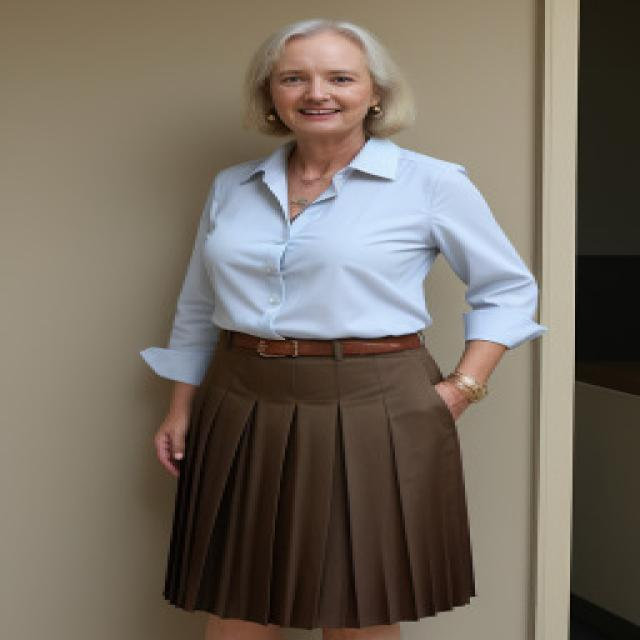Ai human 2: (132, 3, 554, 640)
